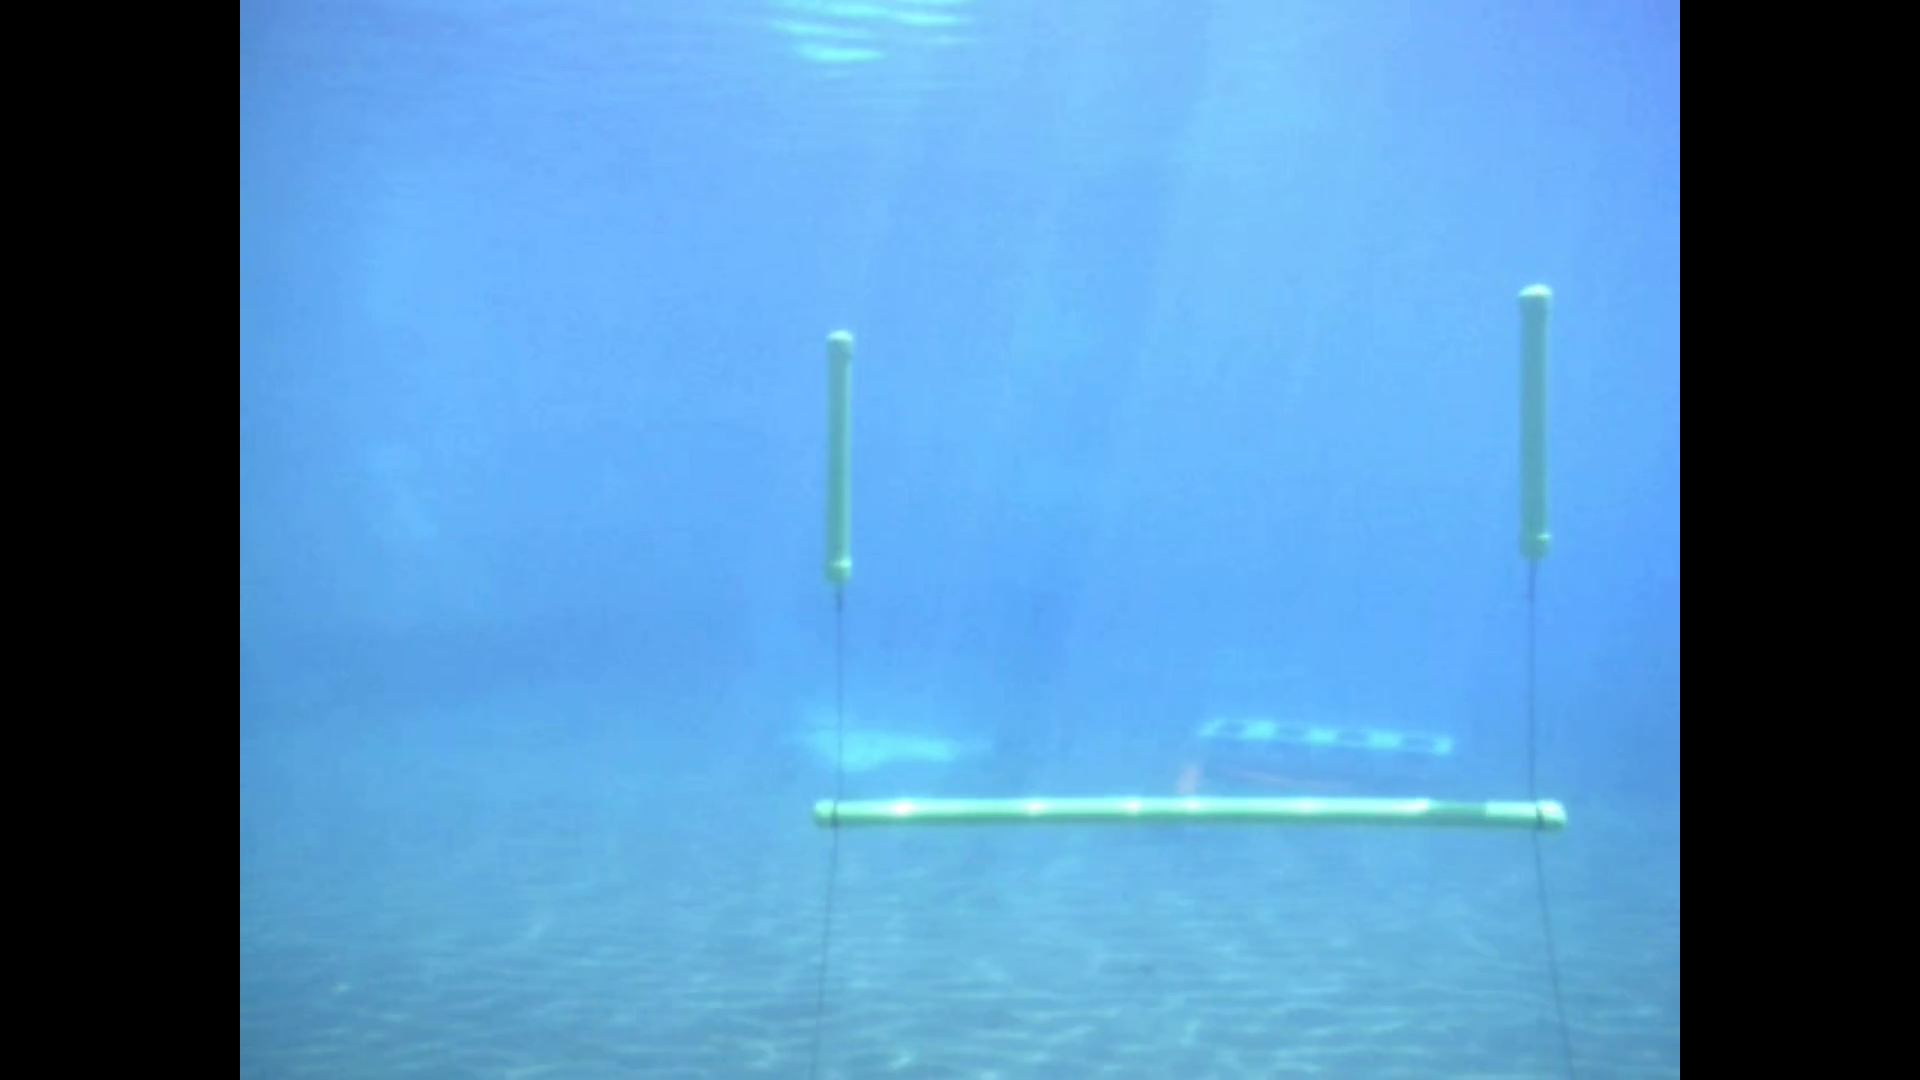gate: (814, 281, 1564, 833)
